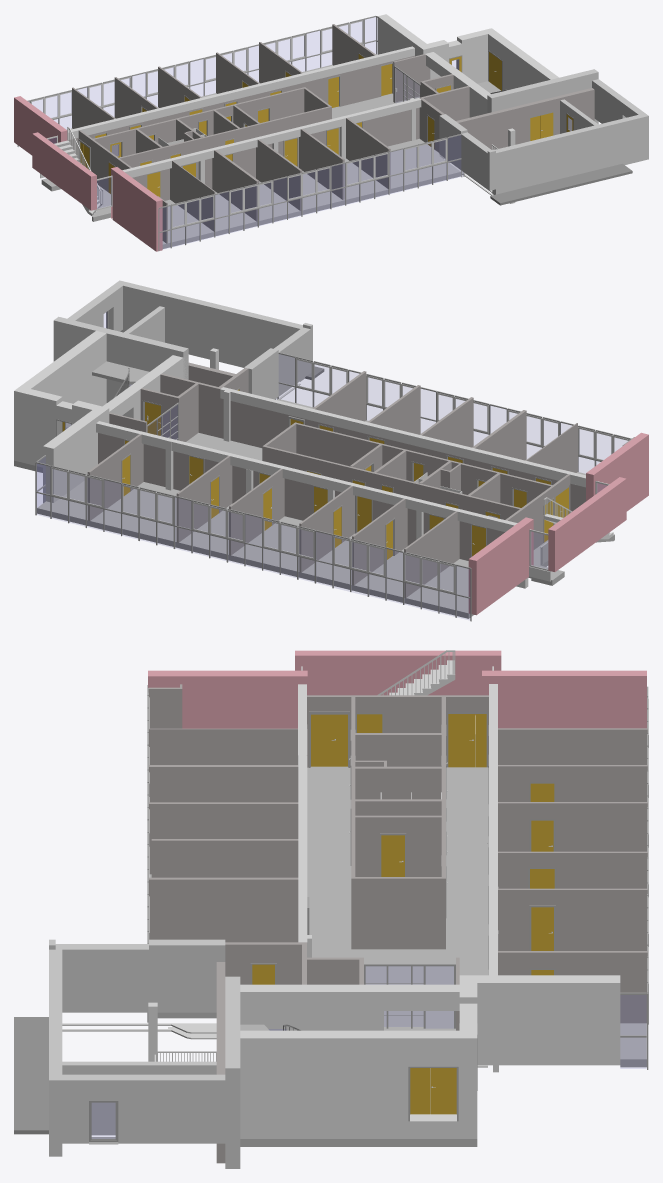
Rendered from Riihimaki2F.glb.
3 views of the same model, one above another, from view 1: azimuth 30°, elevation 25°; view 2: azimuth 150°, elevation 25°; view 3: azimuth 270°, elevation 25° (orthographic). The views are drawn at different scales.
Parts seen in each view (by area): view 1: IfcSlab/Floor:VP 300mm:483101, 2F1, IfcWallStandardCase/Basic Wall:Exterior - Brick on Mtl. Stu. (×2), 2F5, IfcWallStandardCase/Basic Wall:VS - 140mm:780275, IfcWallStandardCase/Basic Wall:VS - 110mm:792553, IfcWallStandardCase/Basic Wall:VS - 140mm:779987, IfcWall/Basic Wall:VS - 100mm:747648, IfcWallStandardCase/Basic Wall:Exterior - Brick on Mtl. Stud, 2F3, IfcWall/Basic Wall:US kantava - 500mm:842819, IfcWallStandardCase/Basic Wall:VS Kantava- 600mm:774677 (+52 smaller); view 2: IfcSlab/Floor:VP 300mm:483101, 2F1, IfcWallStandardCase/Basic Wall:Exterior - Brick on Mtl. Stu. (×2), IfcWallStandardCase/Basic Wall:VS - 110mm:792553, IfcWallStandardCase/Basic Wall:VS - 140mm:779987, IfcWallStandardCase/Basic Wall:VS - 140mm:780275, IfcWallStandardCase/Basic Wall:Exterior - Brick on Mtl. Stud, IfcWall/Basic Wall:US kantava - 500mm:842819, IfcWallStandardCase/Basic Wall:VS Kantava- 600mm:774677, IfcWall/Basic Wall:VS - 100mm:747648, IfcWallStandardCase/Basic Wall:VS Kantava- 600mm:806985, IfcWallStandardCase/Basic Wall:VS Kantava- 600mm:801185 (+58 smaller); view 3: IfcSlab/Floor:VP 300mm:483101, IfcWallStandardCase/Basic Wall:VS Kantava- 600mm:806985, IfcWallStandardCase/Basic Wall:Exterior - Brick on Mtl. Stu. (×2), IfcWallStandardCase/Basic Wall:VS Kantava- 600mm:801185, 2F3, 2F2, IfcWallStandardCase/Basic Wall:VS - 140mm:747087, IfcWallStandardCase/Basic Wall:VS Kantava- 600mm:769463, IfcWallStandardCase/Basic Wall:VS - 110mm:743991, IfcWallStandardCase/Basic Wall:Exterior - Brick on Mtl. Stud, IfcWallStandardCase/Basic Wall:VS - 110mm:744792, IfcWallStandardCase/Basic Wall:VS - 140mm:780771 (+38 smaller).
Part boxes in pixels (x1=…): IfcSlab/Floor:VP 300mm:483101: x1=41, y1=54, x2=460, y2=248; 2F1: x1=492, y1=113, x2=648, y2=194; IfcWallStandardCase/Basic Wall:Exterior - Brick on Mtl. Stu. (×2): x1=14, y1=96, x2=162, y2=251; 2F5: x1=448, y1=88, x2=594, y2=162; IfcWallStandardCase/Basic Wall:VS - 140mm:780275: x1=93, y1=87, x2=305, y2=156; IfcWallStandardCase/Basic Wall:VS - 110mm:792553: x1=68, y1=55, x2=414, y2=157; IfcWallStandardCase/Basic Wall:VS - 140mm:779987: x1=119, y1=106, x2=331, y2=167; IfcWall/Basic Wall:VS - 100mm:747648: x1=132, y1=110, x2=411, y2=200; IfcWallStandardCase/Basic Wall:Exterior - Brick on Mtl. Stud: x1=32, y1=132, x2=96, y2=210; 2F3: x1=439, y1=114, x2=495, y2=190; IfcWall/Basic Wall:US kantava - 500mm:842819: x1=487, y1=69, x2=598, y2=123; IfcWallStandardCase/Basic Wall:VS Kantava- 600mm:774677: x1=418, y1=28, x2=496, y2=83; IfcSlab/Floor:VP 300mm:483101: x1=37, y1=399, x2=614, y2=618; 2F1: x1=115, y1=280, x2=304, y2=381; IfcWallStandardCase/Basic Wall:Exterior - Brick on Mtl. Stu. (×2): x1=468, y1=432, x2=648, y2=615; IfcWallStandardCase/Basic Wall:VS - 110mm:792553: x1=98, y1=433, x2=504, y2=560; IfcWallStandardCase/Basic Wall:VS - 140mm:779987: x1=294, y1=422, x2=552, y2=505; IfcWallStandardCase/Basic Wall:VS - 140mm:780275: x1=262, y1=445, x2=520, y2=519; IfcWallStandardCase/Basic Wall:Exterior - Brick on Mtl. Stud: x1=548, y1=477, x2=626, y2=571; IfcWall/Basic Wall:US kantava - 500mm:842819: x1=53, y1=316, x2=188, y2=402; IfcWallStandardCase/Basic Wall:VS Kantava- 600mm:774677: x1=14, y1=386, x2=109, y2=467; IfcWall/Basic Wall:VS - 100mm:747648: x1=230, y1=401, x2=585, y2=511; IfcWallStandardCase/Basic Wall:VS Kantava- 600mm:806985: x1=20, y1=331, x2=106, y2=427; IfcWallStandardCase/Basic Wall:VS Kantava- 600mm:801185: x1=43, y1=410, x2=102, y2=502; IfcSlab/Floor:VP 300mm:483101: x1=149, y1=734, x2=646, y2=1067; IfcWallStandardCase/Basic Wall:VS Kantava- 600mm:806985: x1=240, y1=1030, x2=459, y2=1138; IfcWallStandardCase/Basic Wall:Exterior - Brick on Mtl. Stu. (×2): x1=148, y1=670, x2=646, y2=728; IfcWallStandardCase/Basic Wall:VS Kantava- 600mm:801185: x1=477, y1=975, x2=620, y2=1065; 2F3: x1=49, y1=939, x2=225, y2=1012; 2F2: x1=62, y1=1074, x2=225, y2=1143; IfcWallStandardCase/Basic Wall:VS - 140mm:747087: x1=149, y1=877, x2=298, y2=942; IfcWallStandardCase/Basic Wall:VS Kantava- 600mm:769463: x1=240, y1=984, x2=459, y2=1030; IfcWallStandardCase/Basic Wall:VS - 110mm:743991: x1=498, y1=888, x2=647, y2=950; IfcWallStandardCase/Basic Wall:Exterior - Brick on Mtl. Stud: x1=295, y1=650, x2=501, y2=714; IfcWallStandardCase/Basic Wall:VS - 110mm:744792: x1=498, y1=802, x2=647, y2=851; IfcWallStandardCase/Basic Wall:VS - 140mm:780771: x1=355, y1=877, x2=441, y2=949.
Bounding box in the file's own units: 33.6 × 6.58 × 21.58.
